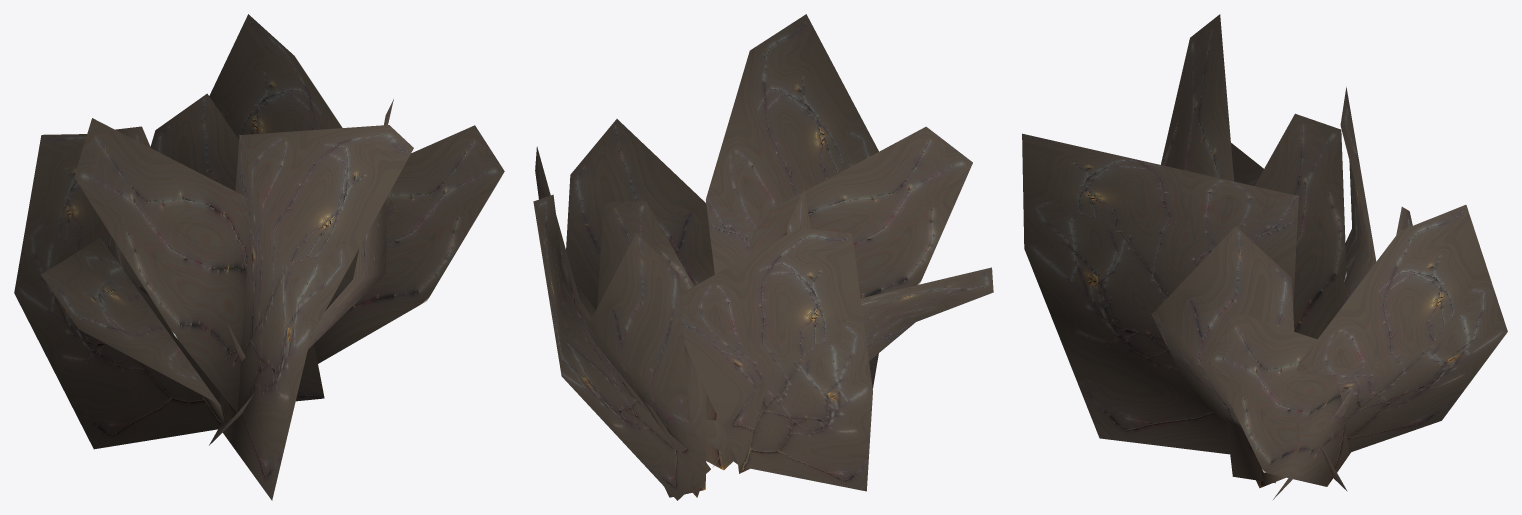
File: Bush_3.fbx
The picture shows the model from 3 angles, left to right: view 1: azimuth 30°, elevation 25°; view 2: azimuth 150°, elevation 25°; view 3: azimuth 270°, elevation 25°; orthographic projection. The views are drawn at different scales.
Visible parts, largest first — view 1: Bush_3; view 2: Bush_3; view 3: Bush_3.
Part boxes in pixels (x1=…): Bush_3: x1=14, y1=14, x2=504, y2=500; Bush_3: x1=533, y1=14, x2=993, y2=500; Bush_3: x1=1022, y1=14, x2=1507, y2=500.
Bounding box in the file's own units: 1.51 × 1.2 × 1.37.
